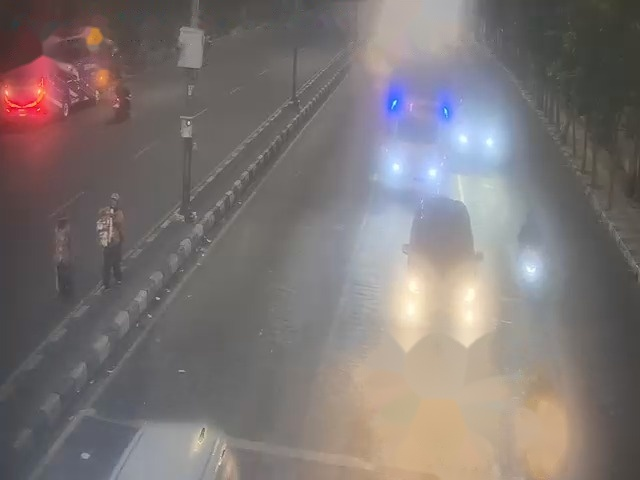Bis: (0, 48, 105, 110)
Mobil: (405, 194, 478, 316), (384, 114, 443, 192), (454, 100, 498, 161)
Motor: (520, 246, 547, 289), (113, 84, 135, 118)
